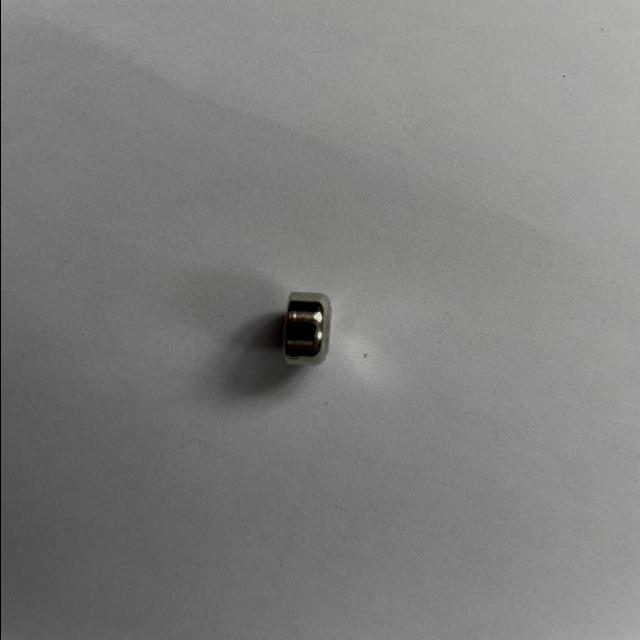COIN: (276, 280, 340, 373)
